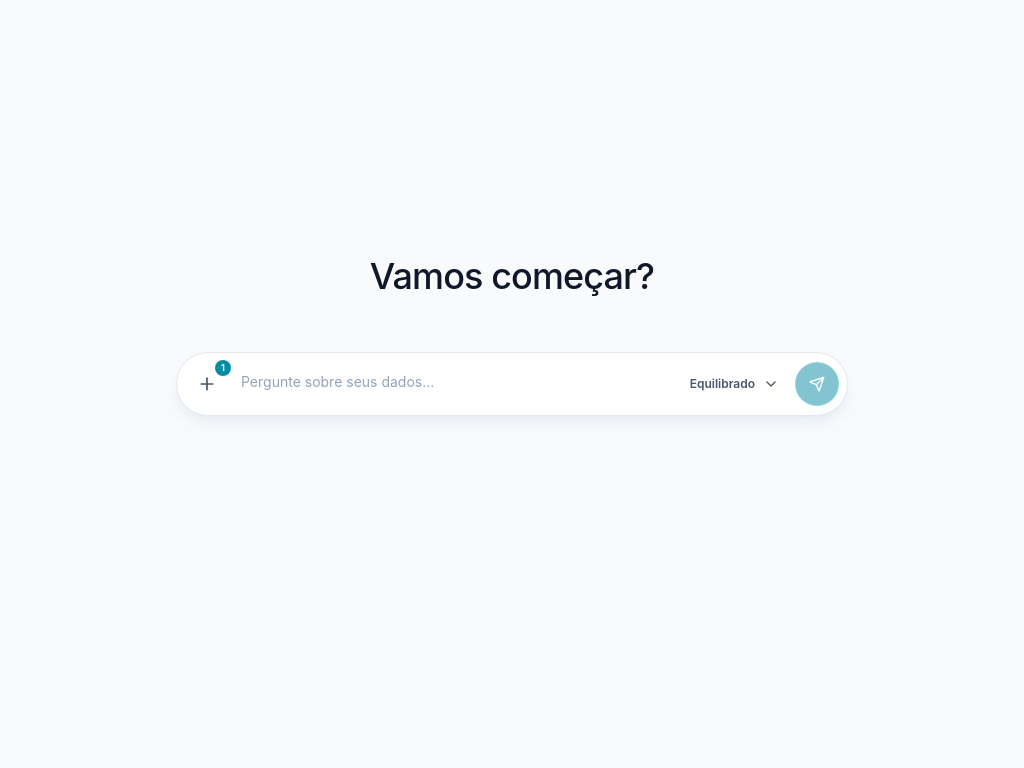
Scenario: AgentPage streaming feedback › stops the active response from the composer
Expected: the button named "Selecionar fontes. 1 arquivo selecionado" is shown, left=185, top=362, right=229, bottom=406
In the text box with placeholder "Pergunte sobre seus dados...": (453, 384) left=233, top=362, right=674, bottom=406, type "Analise meus gastos"
Then press Enter
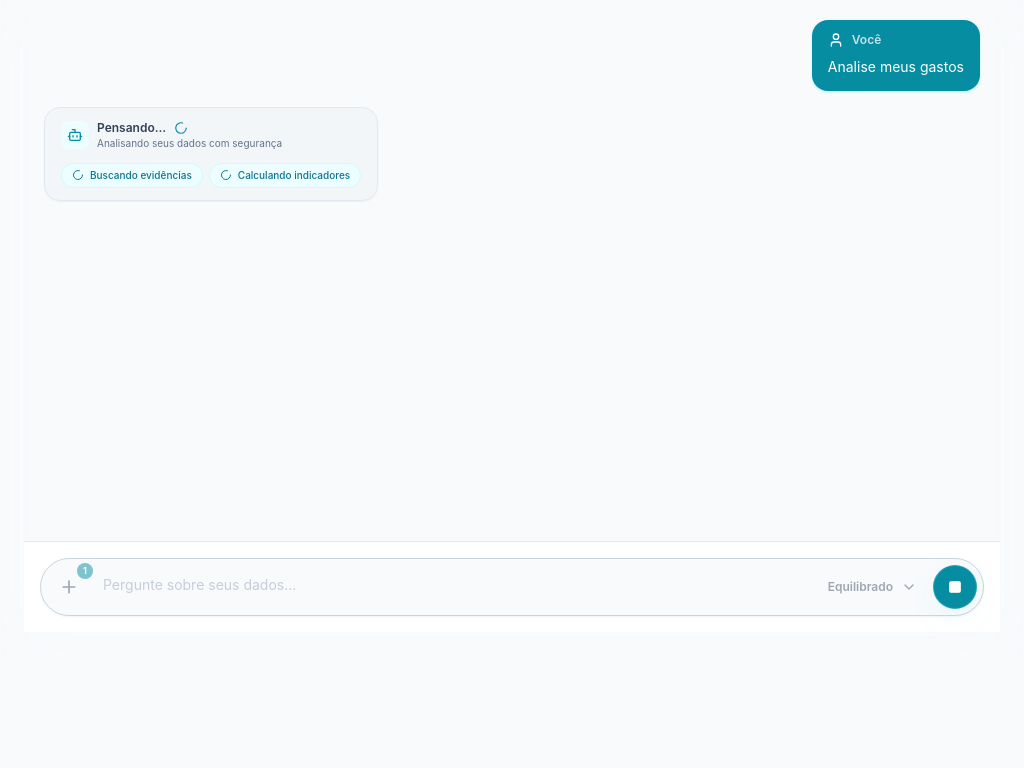
Click the button named "Parar resposta": (955, 587) left=933, top=565, right=977, bottom=609
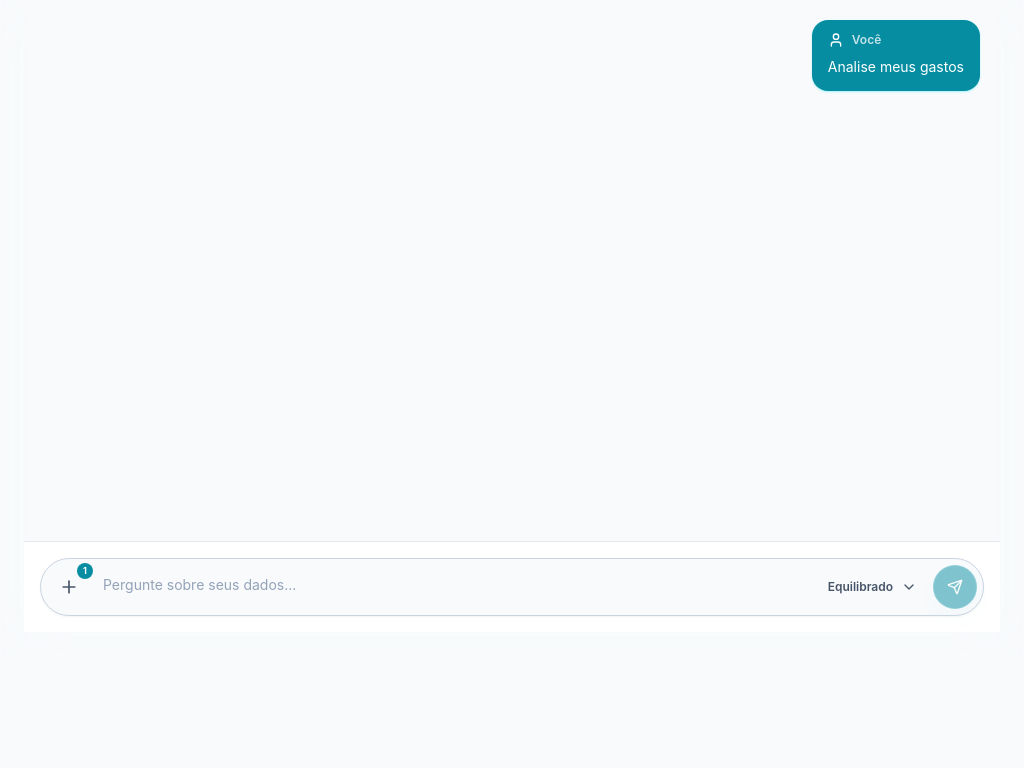
Expected: the text "Pensando..." is gone
Expected: the button named "Enviar mensagem" is shown, left=933, top=565, right=977, bottom=609
